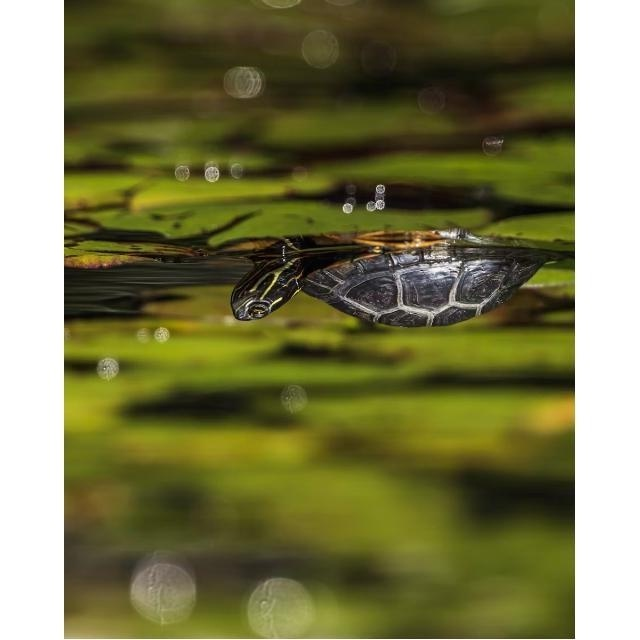turtle: (228, 227, 564, 328)
